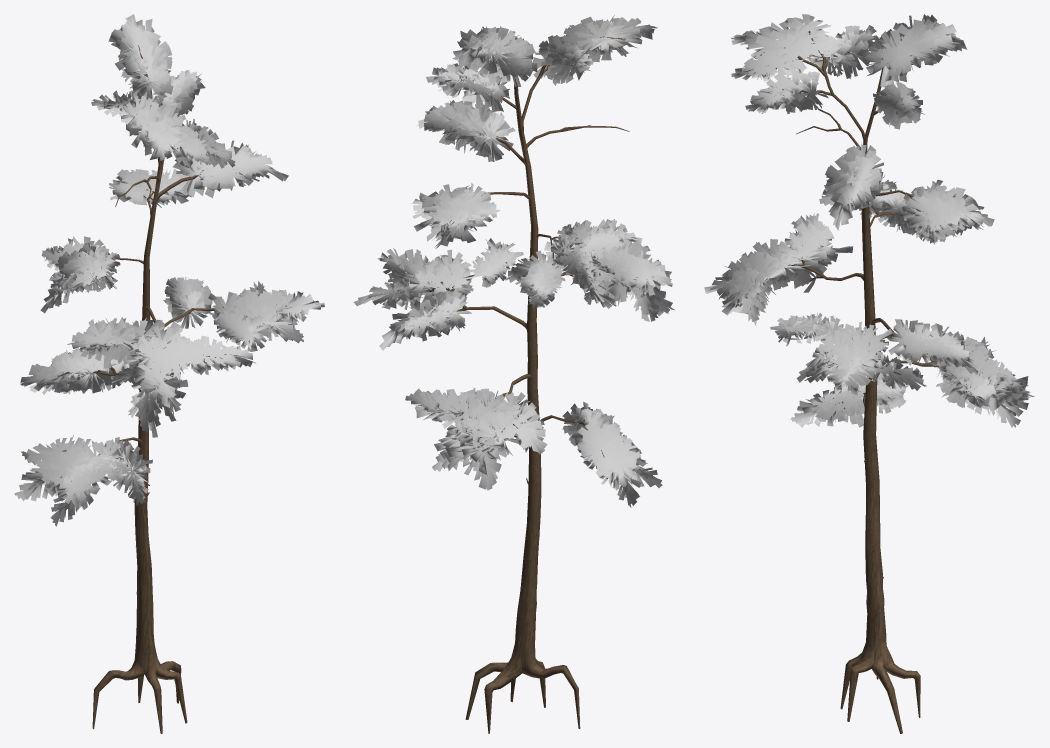
File: Tree_10.fbx
3 views of the same model, side by side, from view 1: azimuth 30°, elevation 25°; view 2: azimuth 150°, elevation 25°; view 3: azimuth 270°, elevation 25° (orthographic). The views are drawn at different scales.
Visible parts, largest first — view 1: Tree_10_LOD0; view 2: Tree_10_LOD0; view 3: Tree_10_LOD0.
Part boxes in pixels (x1=…): Tree_10_LOD0: x1=14, y1=14, x2=324, y2=733; Tree_10_LOD0: x1=353, y1=15, x2=674, y2=733; Tree_10_LOD0: x1=704, y1=14, x2=1034, y2=733.
Size of what is drawn, in the model's own units: 6.46 by 15.03 by 6.46.
